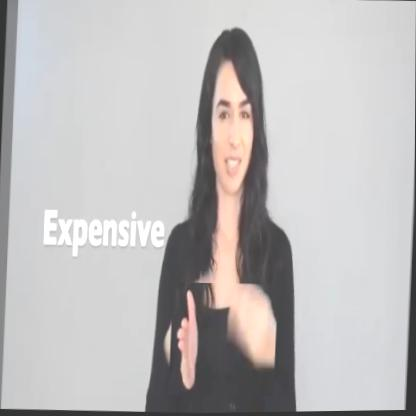Expensive: (169, 282, 279, 399)
